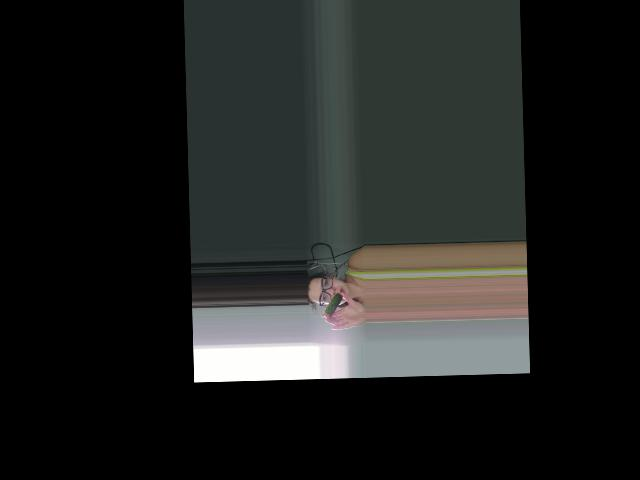cucumber: (323, 292, 343, 315)
